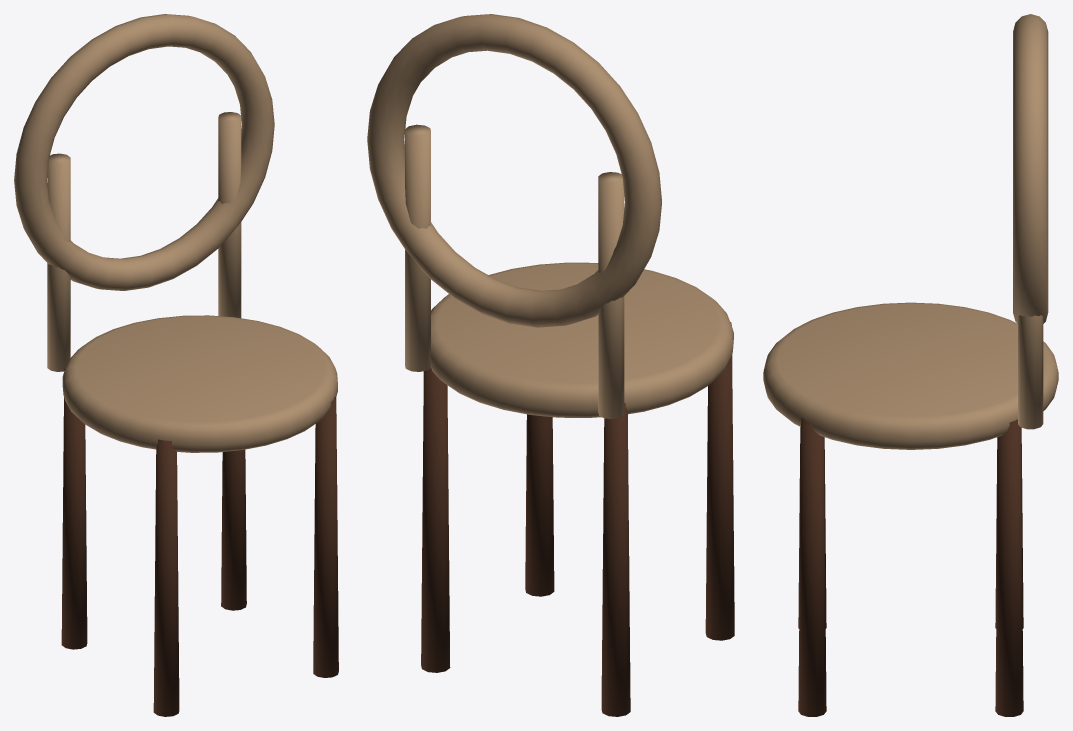
File: chaise_vieille.glb
The picture shows the model from 3 angles, left to right: view 1: azimuth 30°, elevation 25°; view 2: azimuth 150°, elevation 25°; view 3: azimuth 270°, elevation 25°; orthographic projection. The views are drawn at different scales.
Visible parts, largest first — view 1: assise, dossier, pied0, pied1, pied2, montant_g, montant_d, pied3; view 2: dossier, assise, pied2, pied3, pied0, montant_d, montant_g, pied1; view 3: assise, dossier, pied1, pied3, montant_d, pied0, pied2.
Part boxes in pixels (x1,y1,x2,y2): assise: [62, 315, 337, 452]; dossier: [14, 14, 274, 290]; pied0: [153, 439, 179, 716]; pied1: [313, 396, 338, 677]; pied2: [61, 368, 87, 649]; montant_g: [47, 153, 70, 371]; montant_d: [218, 112, 241, 318]; pied3: [221, 449, 246, 610]; dossier: [367, 14, 661, 327]; assise: [431, 262, 733, 417]; pied2: [601, 403, 630, 716]; pied3: [421, 368, 450, 672]; pied0: [705, 322, 734, 640]; montant_d: [405, 124, 430, 371]; montant_g: [598, 172, 624, 419]; pied1: [525, 414, 554, 596]; assise: [763, 302, 1058, 449]; dossier: [1013, 14, 1048, 323]; pied1: [798, 418, 826, 716]; pied3: [995, 419, 1023, 716]; montant_d: [1018, 315, 1043, 429]; pied0: [798, 427, 826, 628]; pied2: [995, 427, 1023, 628].
Bounding box in the file's own units: 0.45 × 1 × 0.42.
